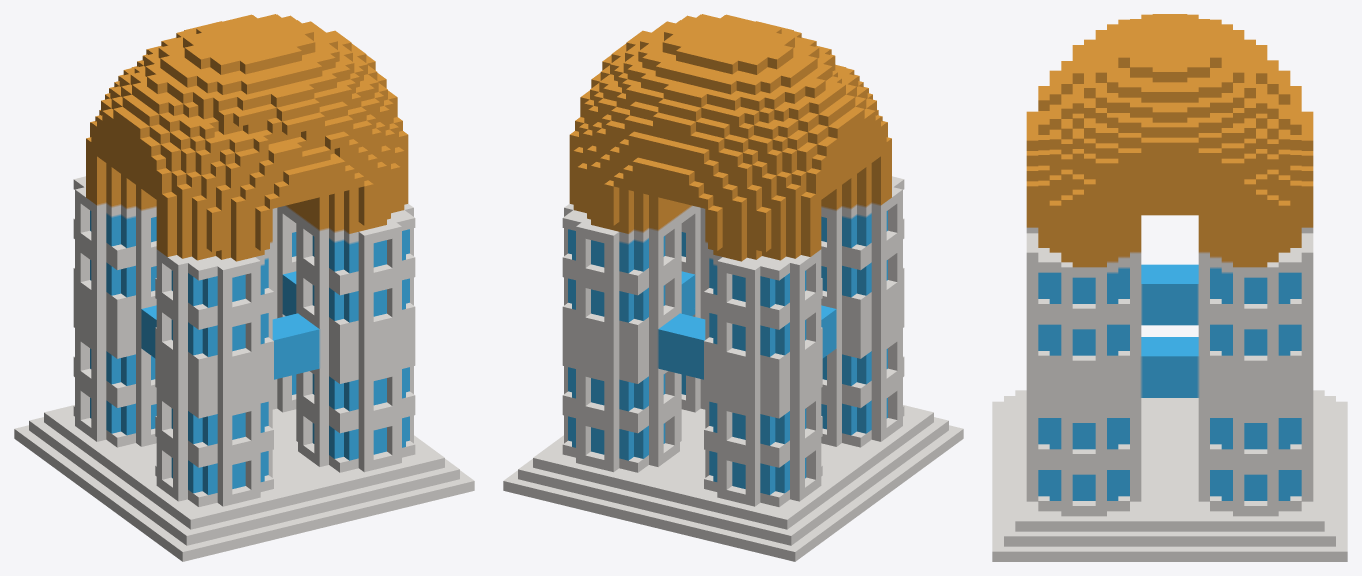
The model's file is TwentySixModelRoof.fbx.
The picture shows the model from 3 angles, left to right: view 1: azimuth 30°, elevation 25°; view 2: azimuth 150°, elevation 25°; view 3: azimuth 270°, elevation 25°; orthographic projection. The views are drawn at different scales.
Parts seen in each view (by area): view 1: Matrix_1; view 2: Matrix_1; view 3: Matrix_1.
Boxes of the visible parts, x1,y1,x2,y2 form: Matrix_1: (14, 14, 474, 561); Matrix_1: (503, 14, 963, 561); Matrix_1: (992, 14, 1347, 561).
Bounding box in the file's own units: 31 × 43 × 31.
1 material, 1 textured.
